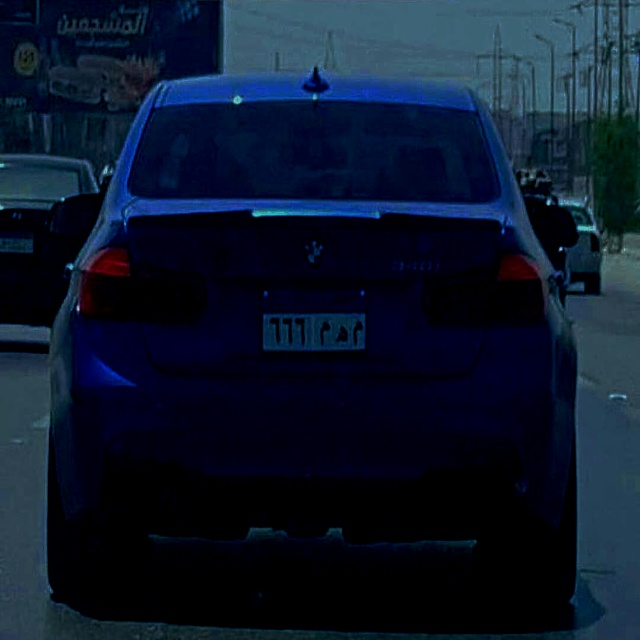License Plate: (258, 285, 369, 355)
